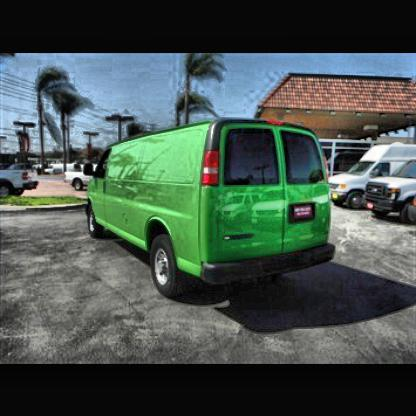Chevrolet Express Van 2007: (85, 116, 339, 305)
